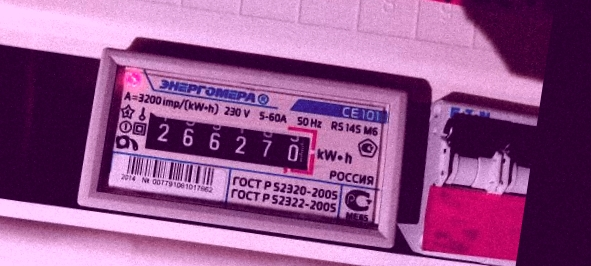0: (285, 141, 300, 163)
2: (154, 120, 171, 143), (232, 133, 247, 156)
6: (180, 126, 196, 148), (206, 130, 222, 151)
7: (257, 137, 273, 159)
screen: (133, 100, 326, 184)
